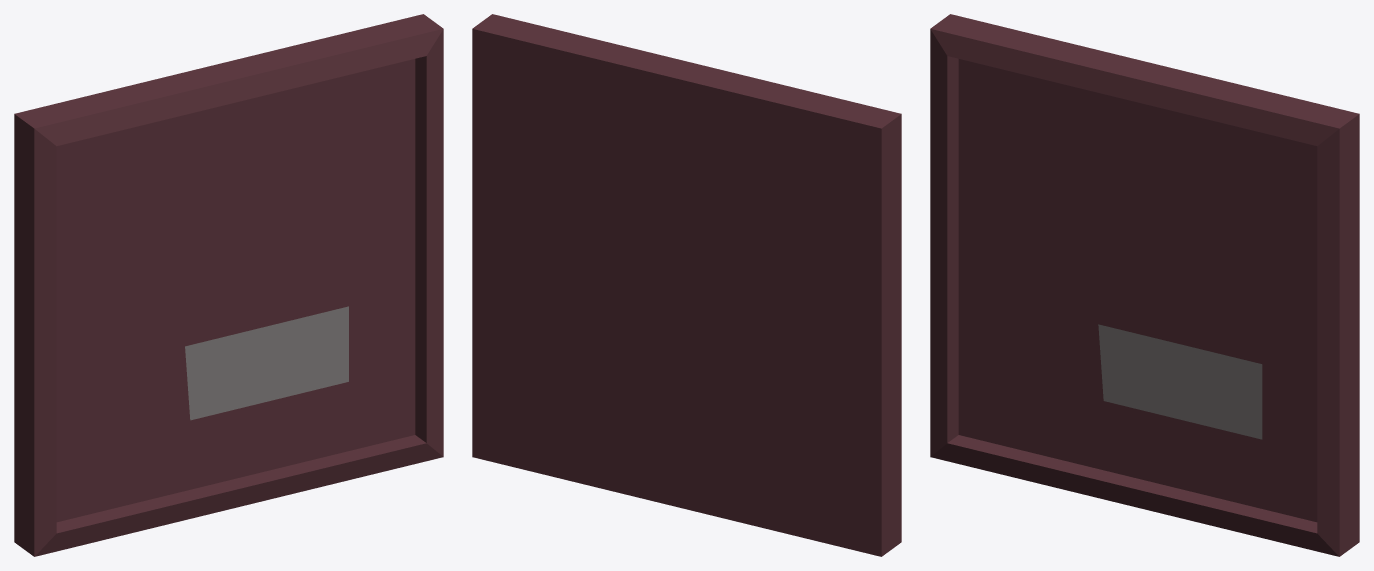
Rendered from furniture-picture-nature-square-small.glb.
3 renders of one model, left to right at view 1: azimuth 30°, elevation 25°; view 2: azimuth 150°, elevation 25°; view 3: azimuth 330°, elevation 25°, orthographic.
Visible parts, largest first — view 1: picture-nature-square-small; view 2: picture-nature-square-small; view 3: picture-nature-square-small.
Part boxes in pixels (<box>): picture-nature-square-small: <box>14,14,443,556</box>; picture-nature-square-small: <box>472,14,901,556</box>; picture-nature-square-small: <box>930,14,1359,556</box>.
Size of the model in its own units: 0.25 by 0.25 by 0.024.
